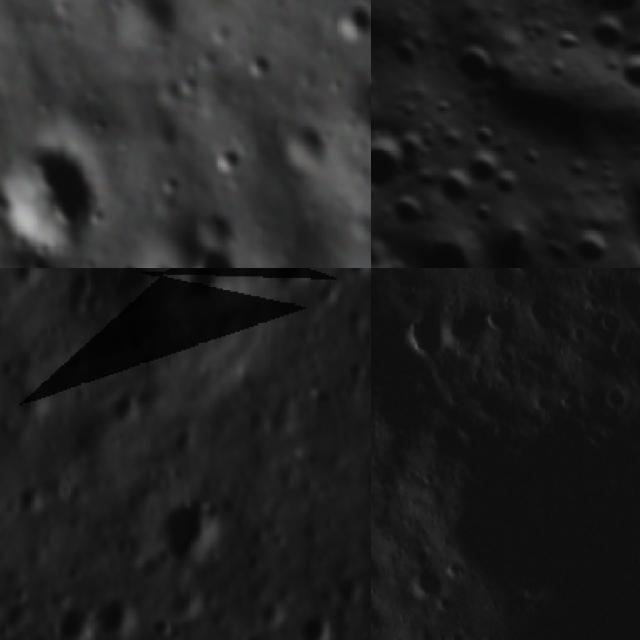crater: (0, 127, 114, 265), (377, 215, 532, 268), (155, 486, 235, 577), (439, 22, 516, 100), (280, 108, 336, 183), (371, 120, 420, 203), (395, 302, 446, 368), (184, 268, 251, 318), (582, 6, 640, 63), (386, 117, 441, 172), (92, 587, 139, 640), (101, 379, 146, 432), (567, 222, 618, 268), (459, 142, 507, 190), (483, 160, 531, 207), (381, 30, 428, 77), (606, 38, 640, 102), (209, 138, 254, 186), (158, 581, 203, 629), (237, 43, 280, 91), (291, 605, 345, 640), (51, 599, 97, 640), (332, 0, 371, 48), (464, 114, 506, 156), (584, 0, 640, 31), (408, 558, 448, 601), (180, 242, 243, 268), (480, 301, 520, 338), (464, 195, 499, 231), (268, 268, 312, 292), (236, 628, 276, 640)
